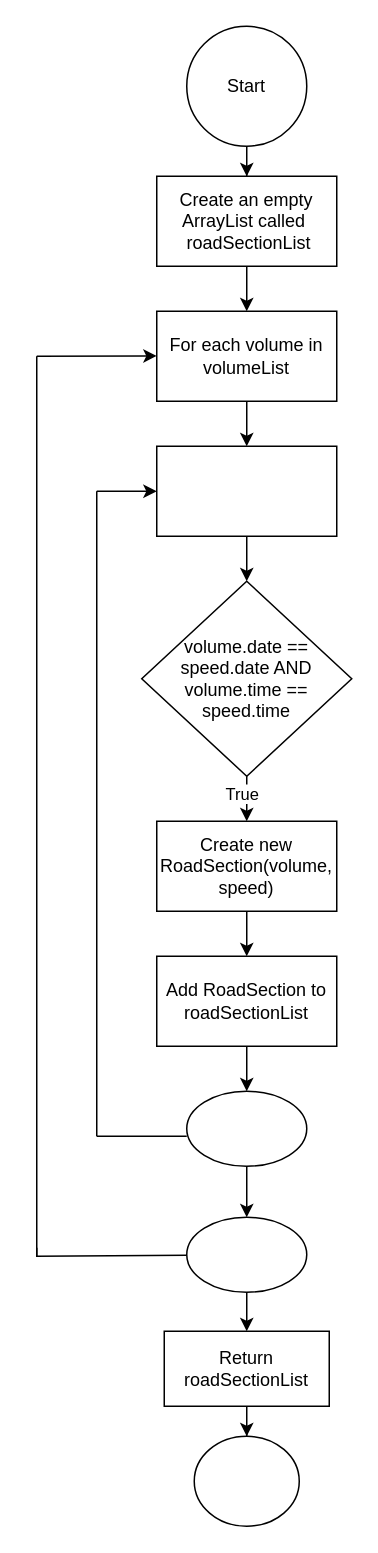
Some shapes in this 378 by 1553 pixel diagram are drawn without their labels. Here are the shapes that lost their labels. From the top down, the centre of each, then its label:
pixel 246 490: For each speed in speedList
pixel 246 1128: End of inner loop
pixel 246 1254: End of outer loop
pixel 246 1480: Stop
